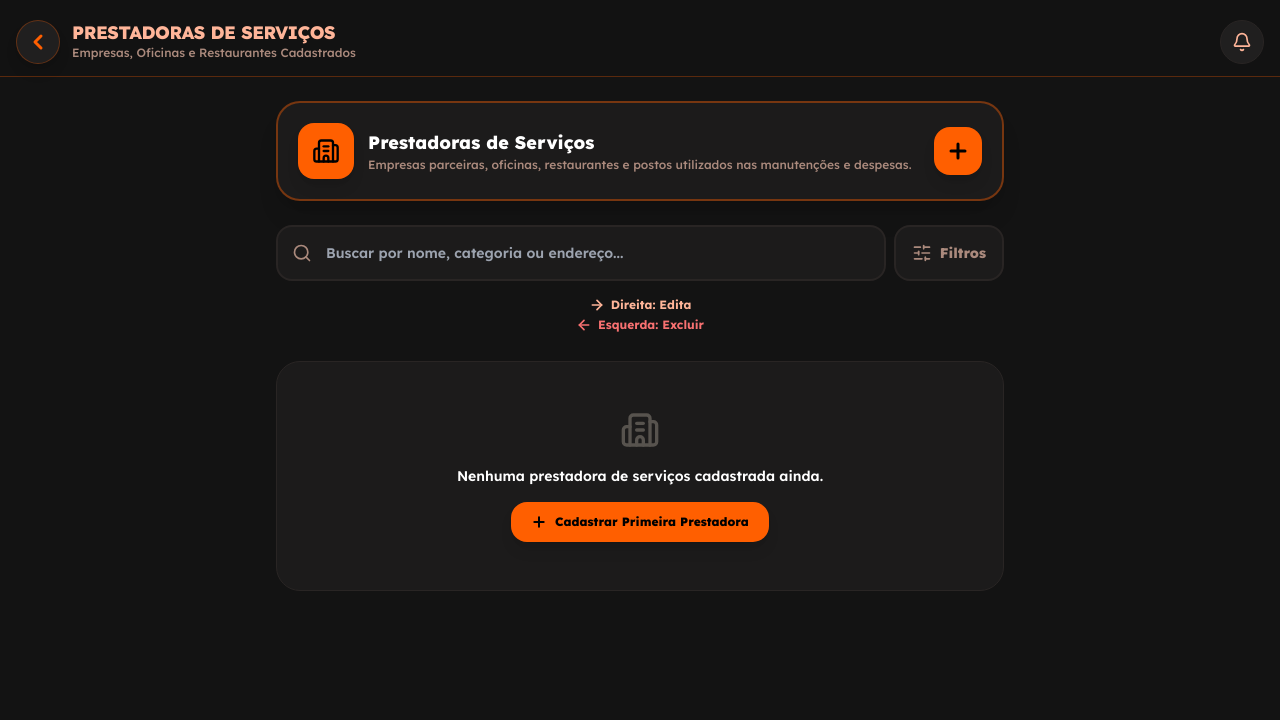
Test: Empresas.tsx — Centralização de Empresas & Prestadoras › Scenario D: creates new company with correct category and triggers mutation
Later steps or results of the test are not shown.
Note: Open add modal
Click the button titled "Cadastrar Nova Empresa" at coordinates (958, 151), box [934,127,982,175]
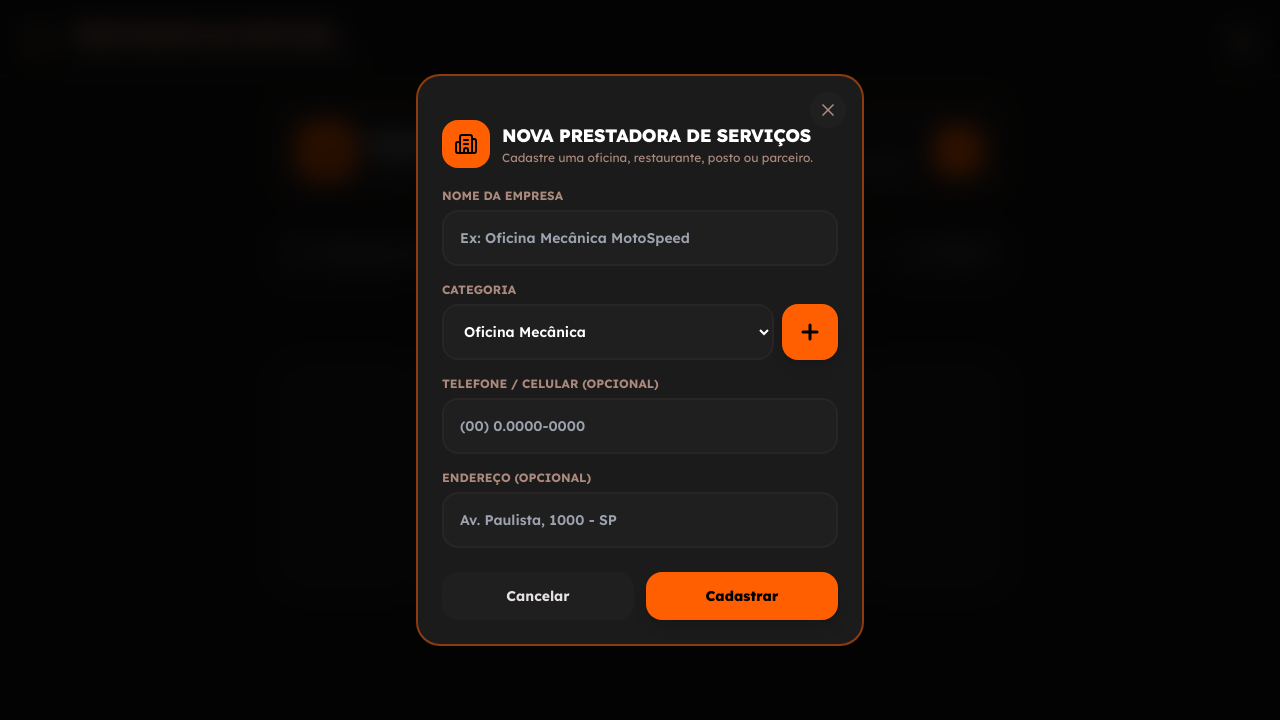
Check: the heading "Nova Prestadora de Serviços" is shown, box [502,122,813,150]
